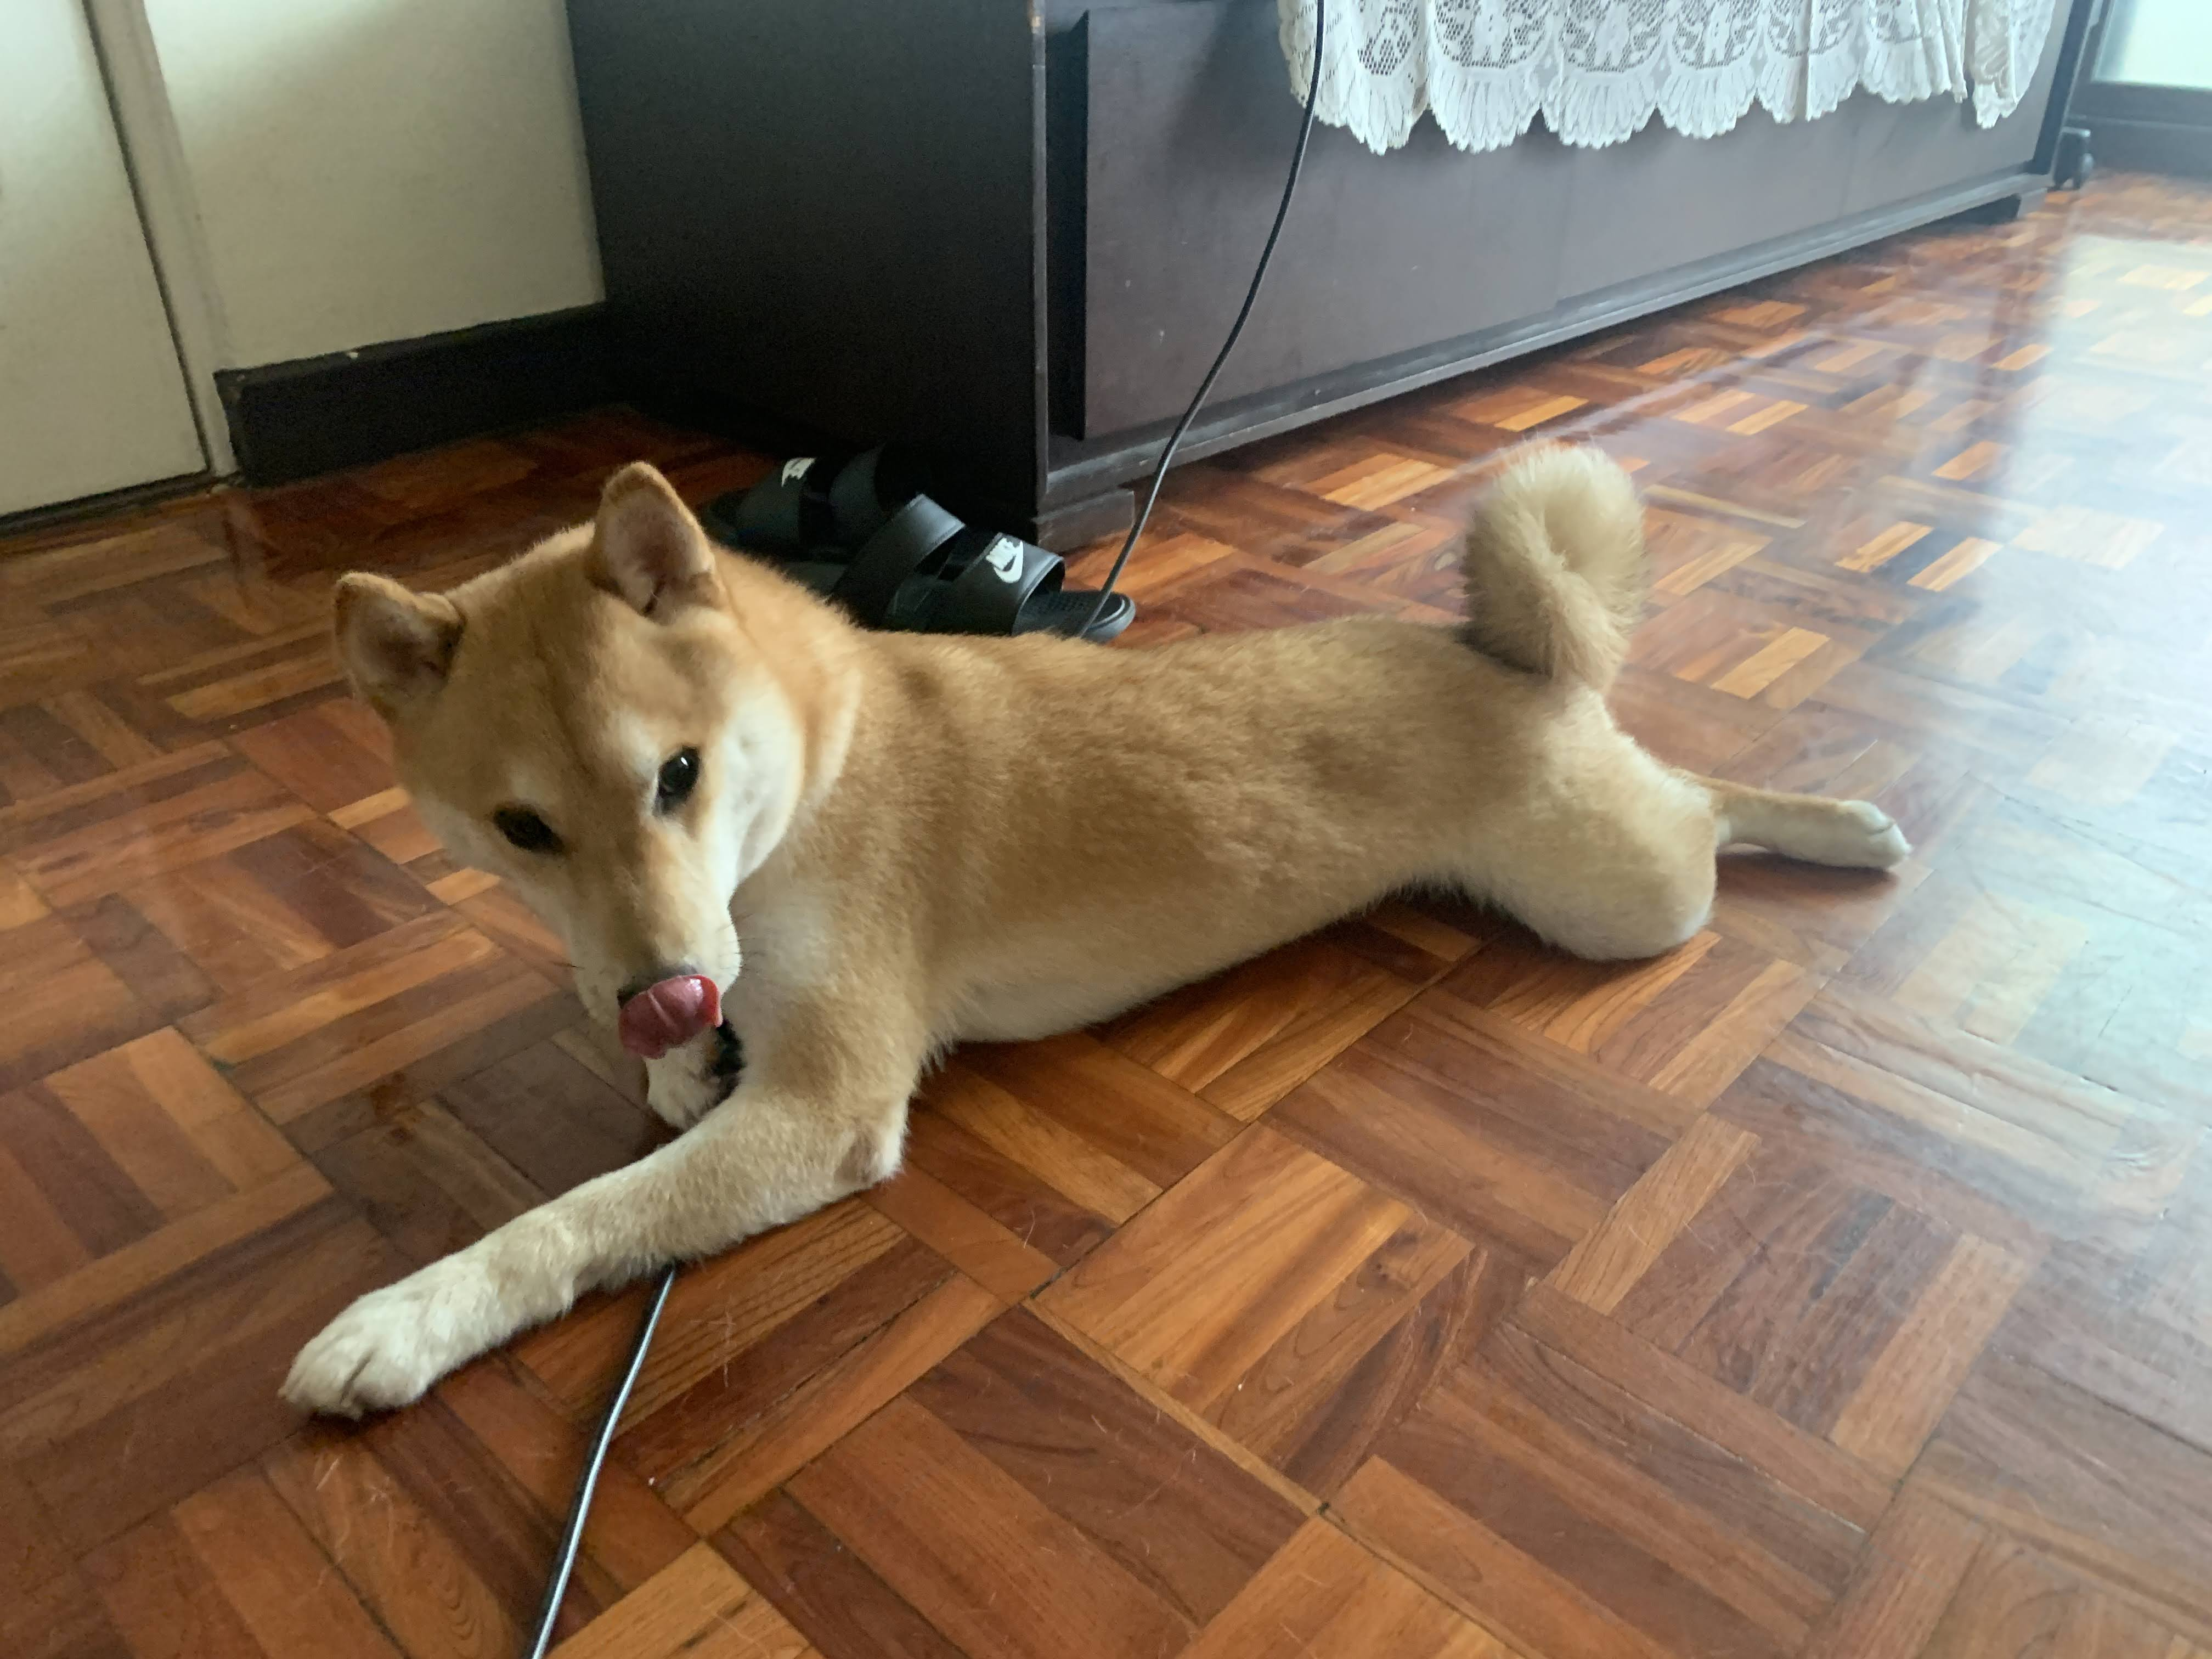Get down: (263, 444, 1916, 1419)
